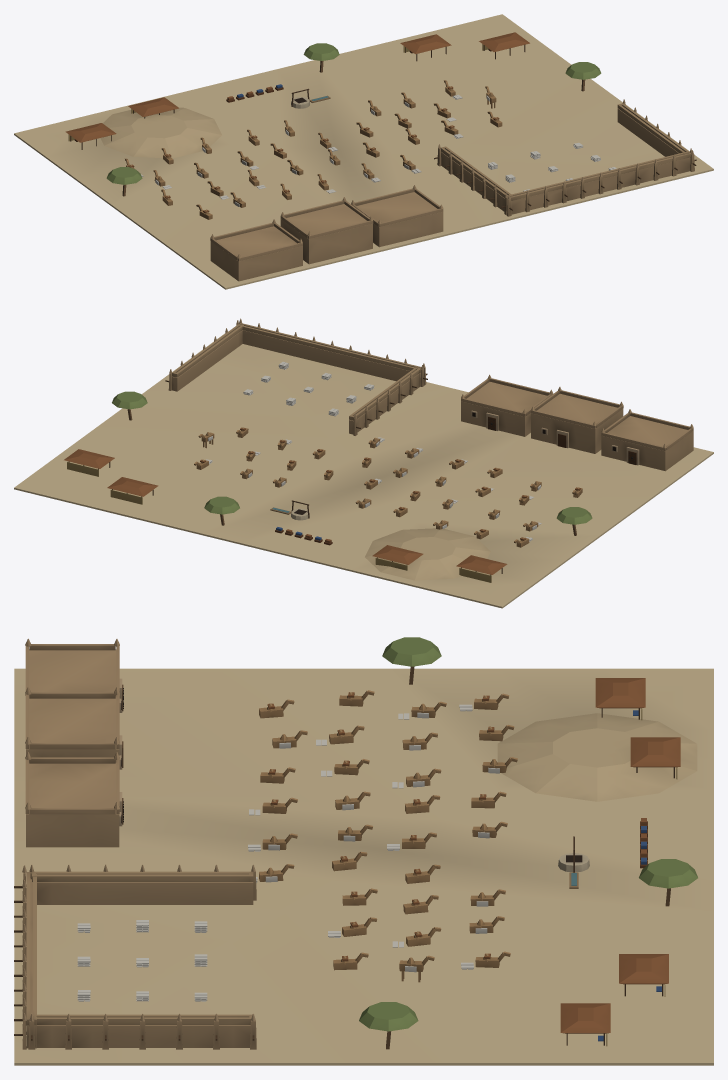
Rendered from azalai-ground.glb.
3 views of the same model, one above another, from view 1: azimuth 30°, elevation 25°; view 2: azimuth 150°, elevation 25°; view 3: azimuth 270°, elevation 25° (orthographic). The views are drawn at different scales.
Visible parts, largest first — view 1: p0_ground, p1_stores, p2_camp, p3_caravan; view 2: p0_ground, p1_stores, p2_camp, p3_caravan; view 3: p0_ground, p1_stores, p3_caravan, p2_camp.
Boxes of the visible parts, x1,y1,x2,y2 form: p0_ground: [14, 14, 713, 289]; p1_stores: [210, 99, 696, 281]; p2_camp: [65, 32, 601, 196]; p3_caravan: [125, 80, 502, 219]; p0_ground: [14, 333, 713, 608]; p1_stores: [165, 318, 693, 471]; p2_camp: [64, 391, 592, 582]; p3_caravan: [194, 427, 582, 547]; p0_ground: [14, 668, 713, 1065]; p1_stores: [14, 638, 256, 1049]; p3_caravan: [248, 690, 517, 982]; p2_camp: [359, 637, 697, 1049].
Bounding box in the file's own units: 80 × 5.28 × 60.03.
